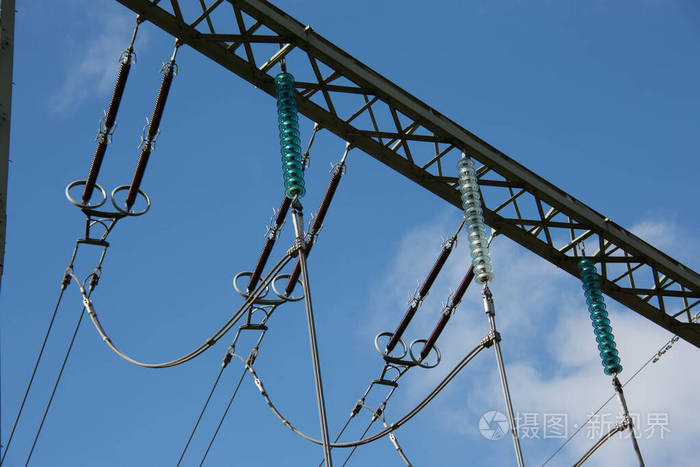insulator: (580, 258, 624, 375), (454, 160, 495, 281), (274, 70, 308, 197)
